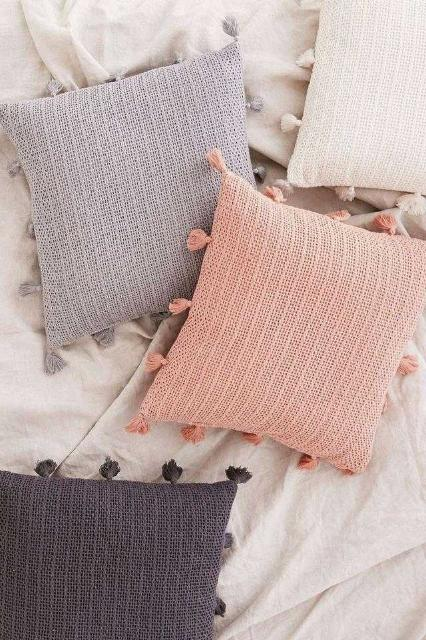pillow: (124, 148, 426, 476), (0, 39, 258, 373)
